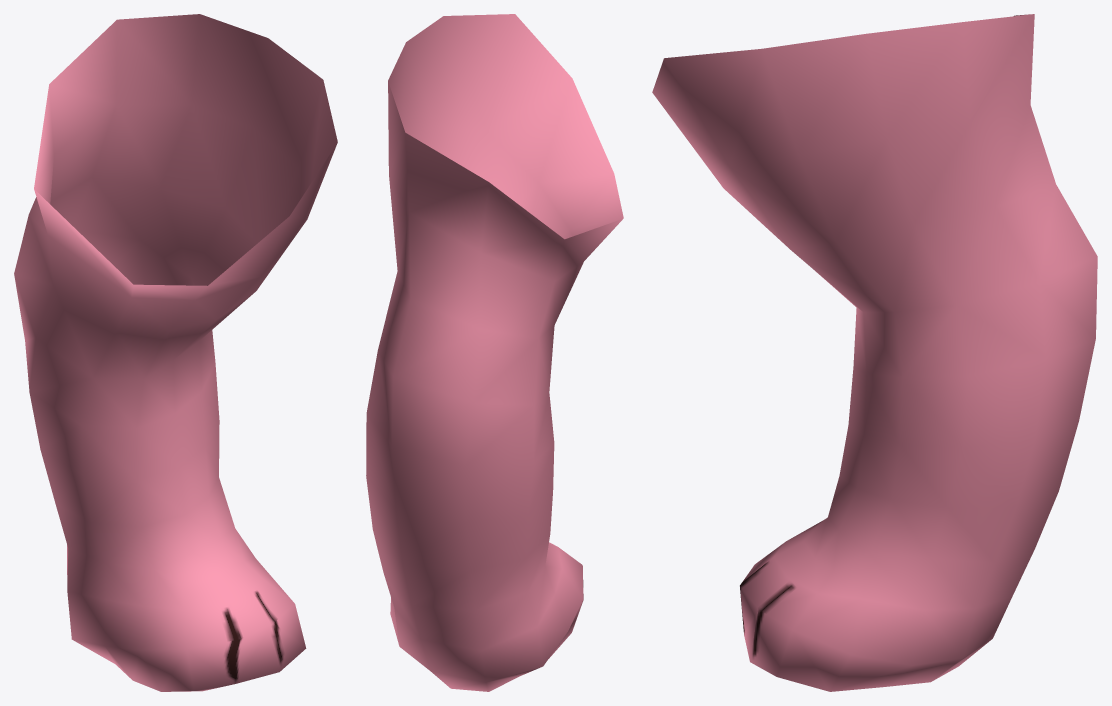
File: Leon Pata TraDer.obj
The picture shows the model from 3 angles, left to right: view 1: azimuth 30°, elevation 25°; view 2: azimuth 150°, elevation 25°; view 3: azimuth 270°, elevation 25°; orthographic projection. The views are drawn at different scales.
Visible parts, largest first — view 1: Pata_trasera_derecha; view 2: Pata_trasera_derecha; view 3: Pata_trasera_derecha.
Part boxes in pixels (bbox=[...]): Pata_trasera_derecha: bbox=[14, 14, 337, 691]; Pata_trasera_derecha: bbox=[366, 14, 623, 691]; Pata_trasera_derecha: bbox=[652, 14, 1097, 691].
Bounding box in the file's own units: 11.05 × 31.17 × 18.39.
